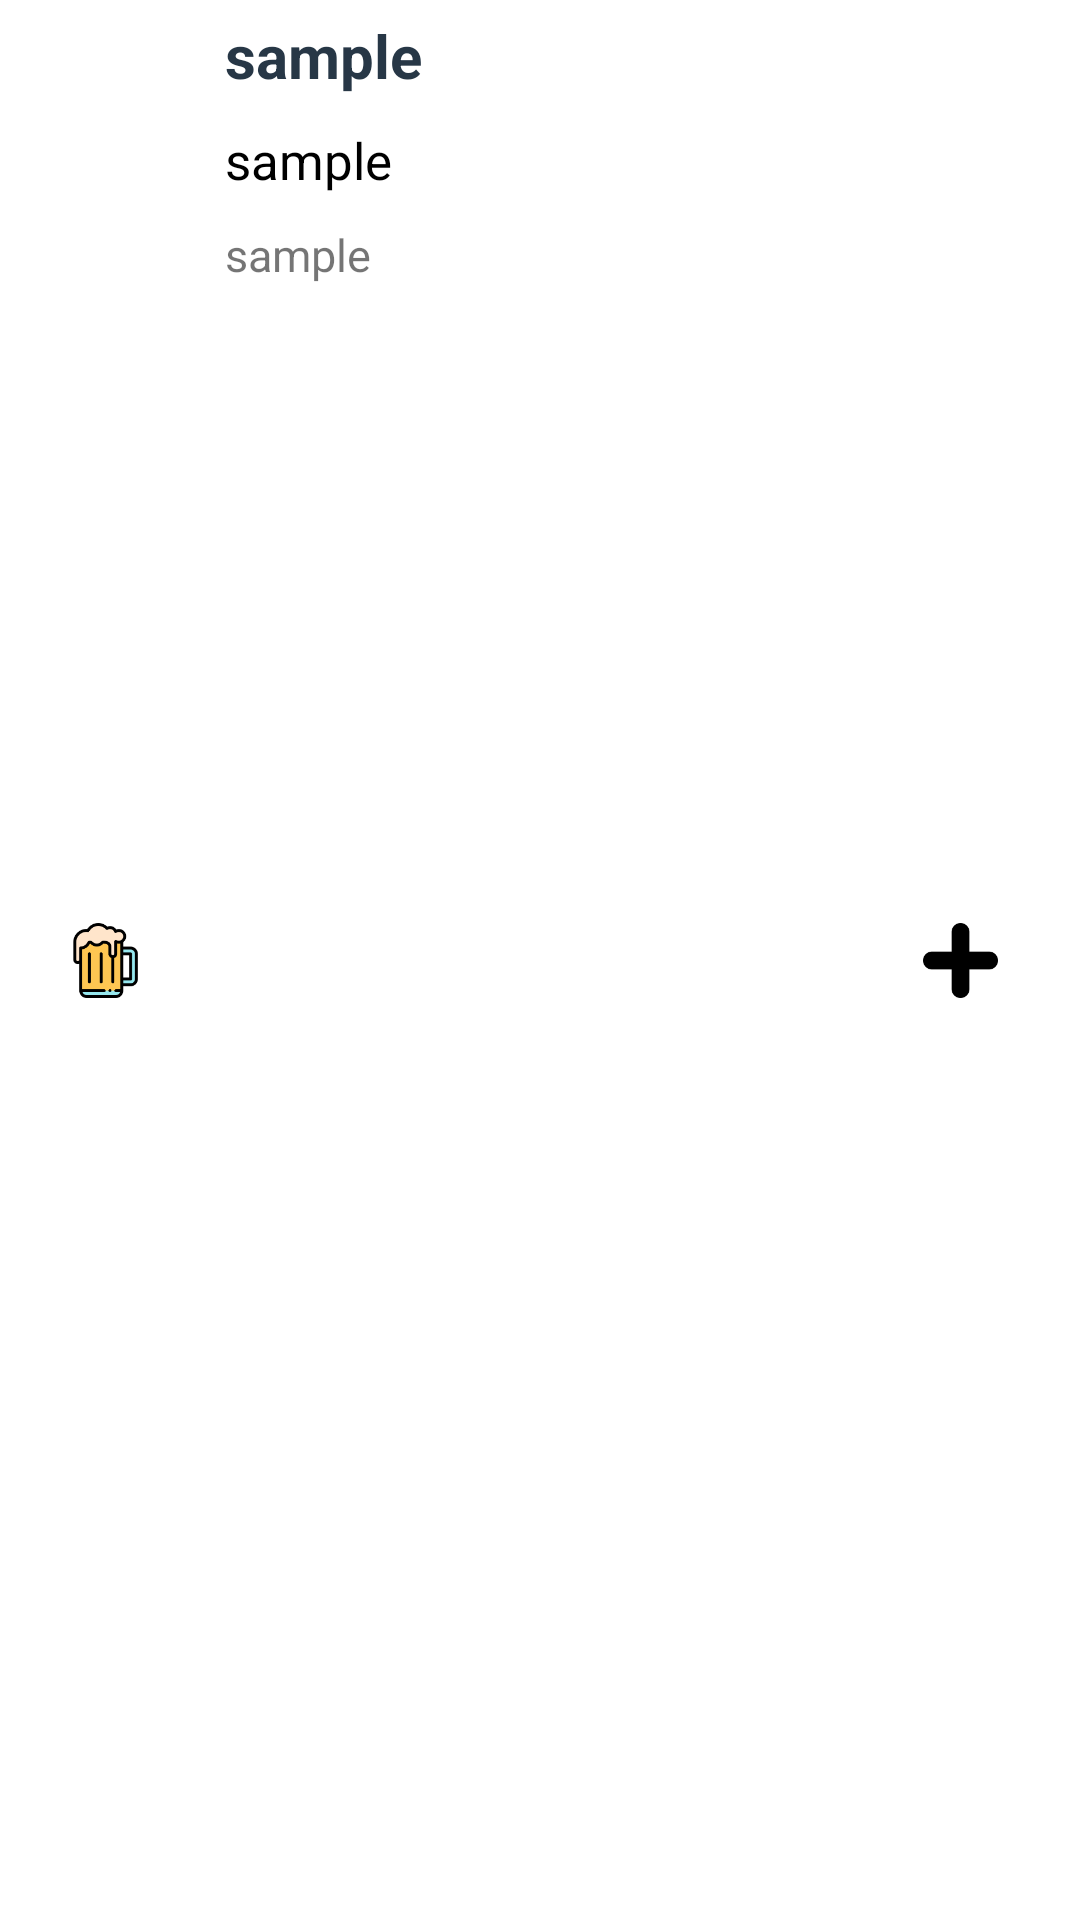

Named icons in this screenshot (1080px×1920px) and their centers, (x,y):
add: (960,960)
beer: (105,960)
